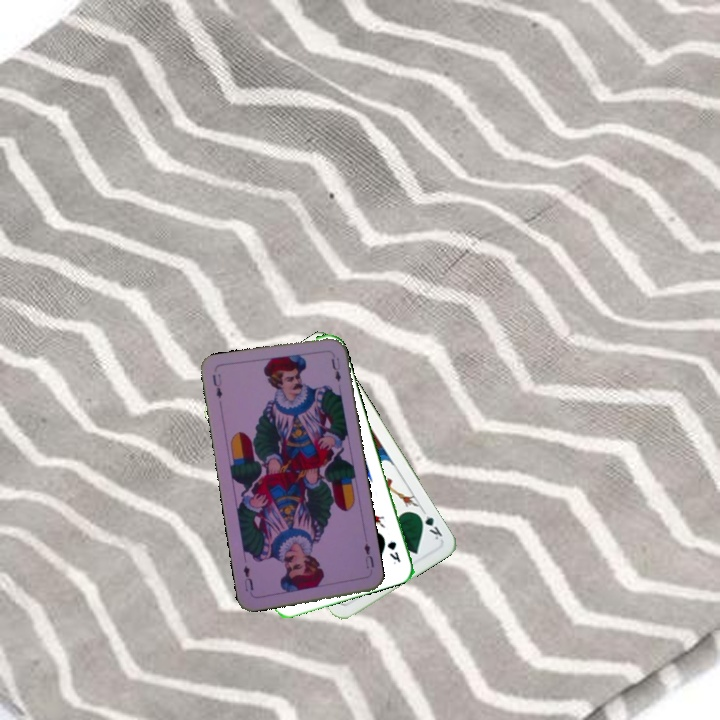EU: (360, 540, 377, 571), (208, 370, 225, 401)
GK: (413, 509, 445, 543), (383, 536, 403, 567)
